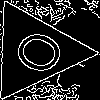O: (9, 26, 77, 83)
